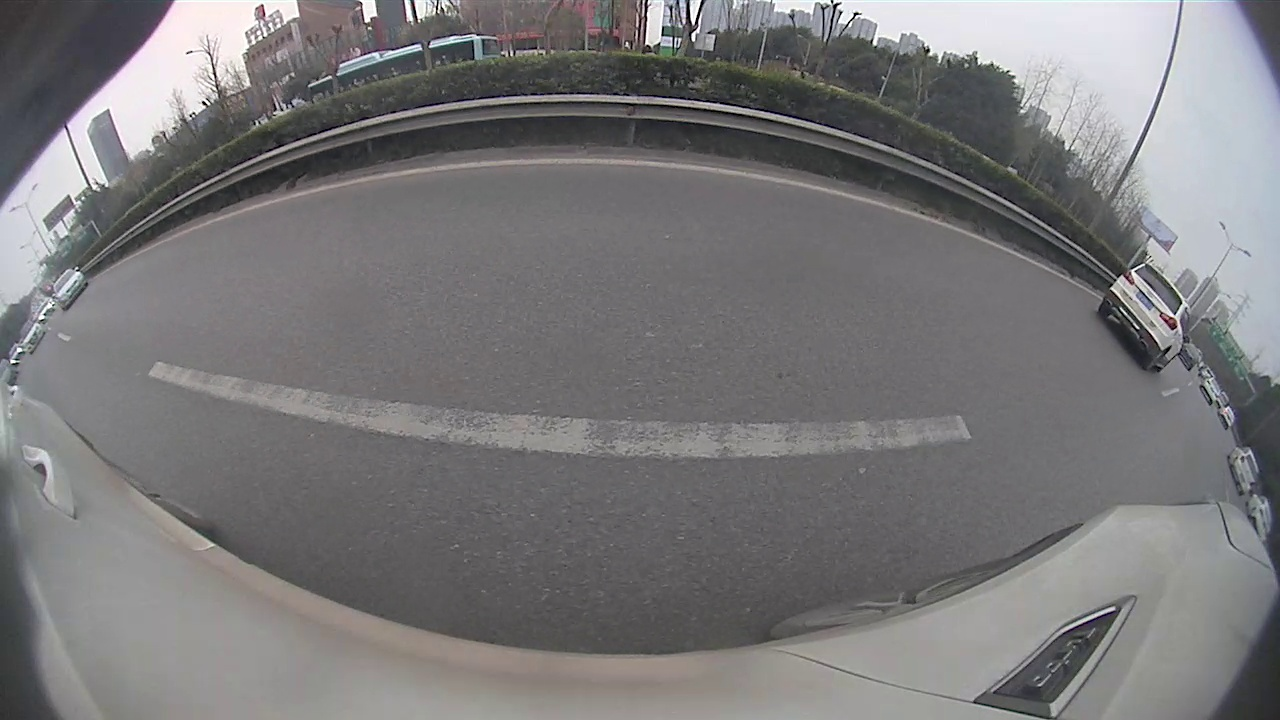car: (1098, 256, 1193, 376)
